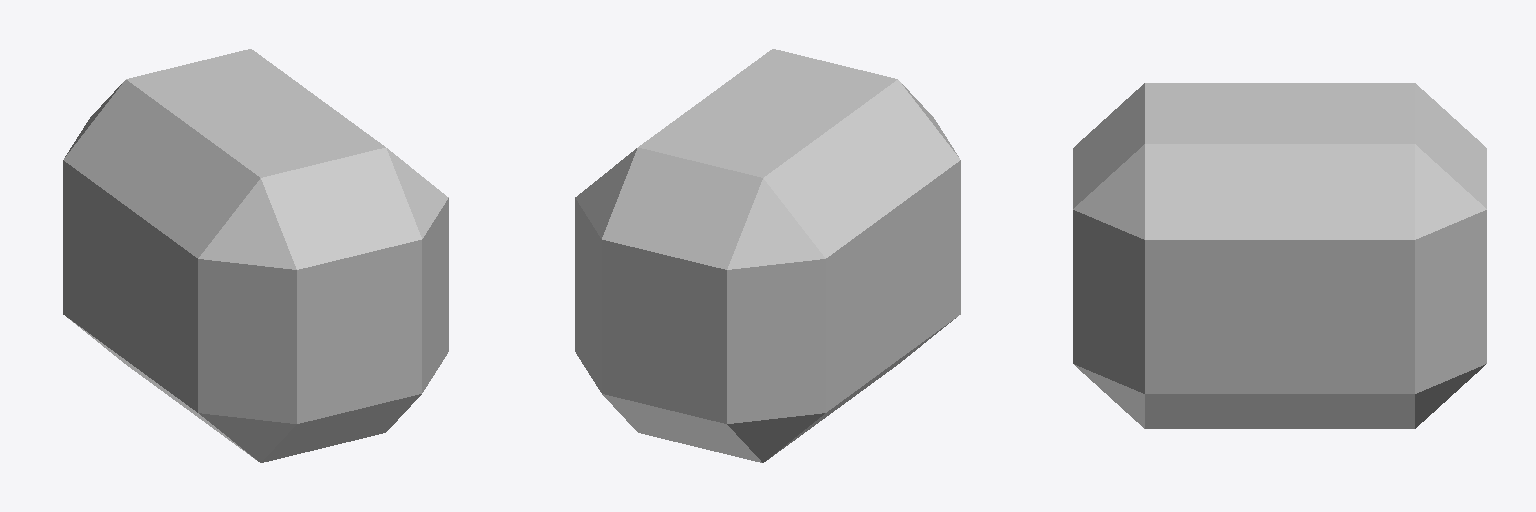
The model's file is PuzzleLight.obj.
The picture shows the model from 3 angles: view 1: azimuth 30°, elevation 25°; view 2: azimuth 150°, elevation 25°; view 3: azimuth 270°, elevation 25°; orthographic projection.
Visible parts, largest first — view 1: pCube1; view 2: pCube1; view 3: pCube1.
Part boxes in pixels (x1,y1,x2,y2): pCube1: (63,49,448,462); pCube1: (575,49,960,462); pCube1: (1073,83,1486,428).
Bounding box in the file's own units: 1.01 × 1.1 × 1.45.